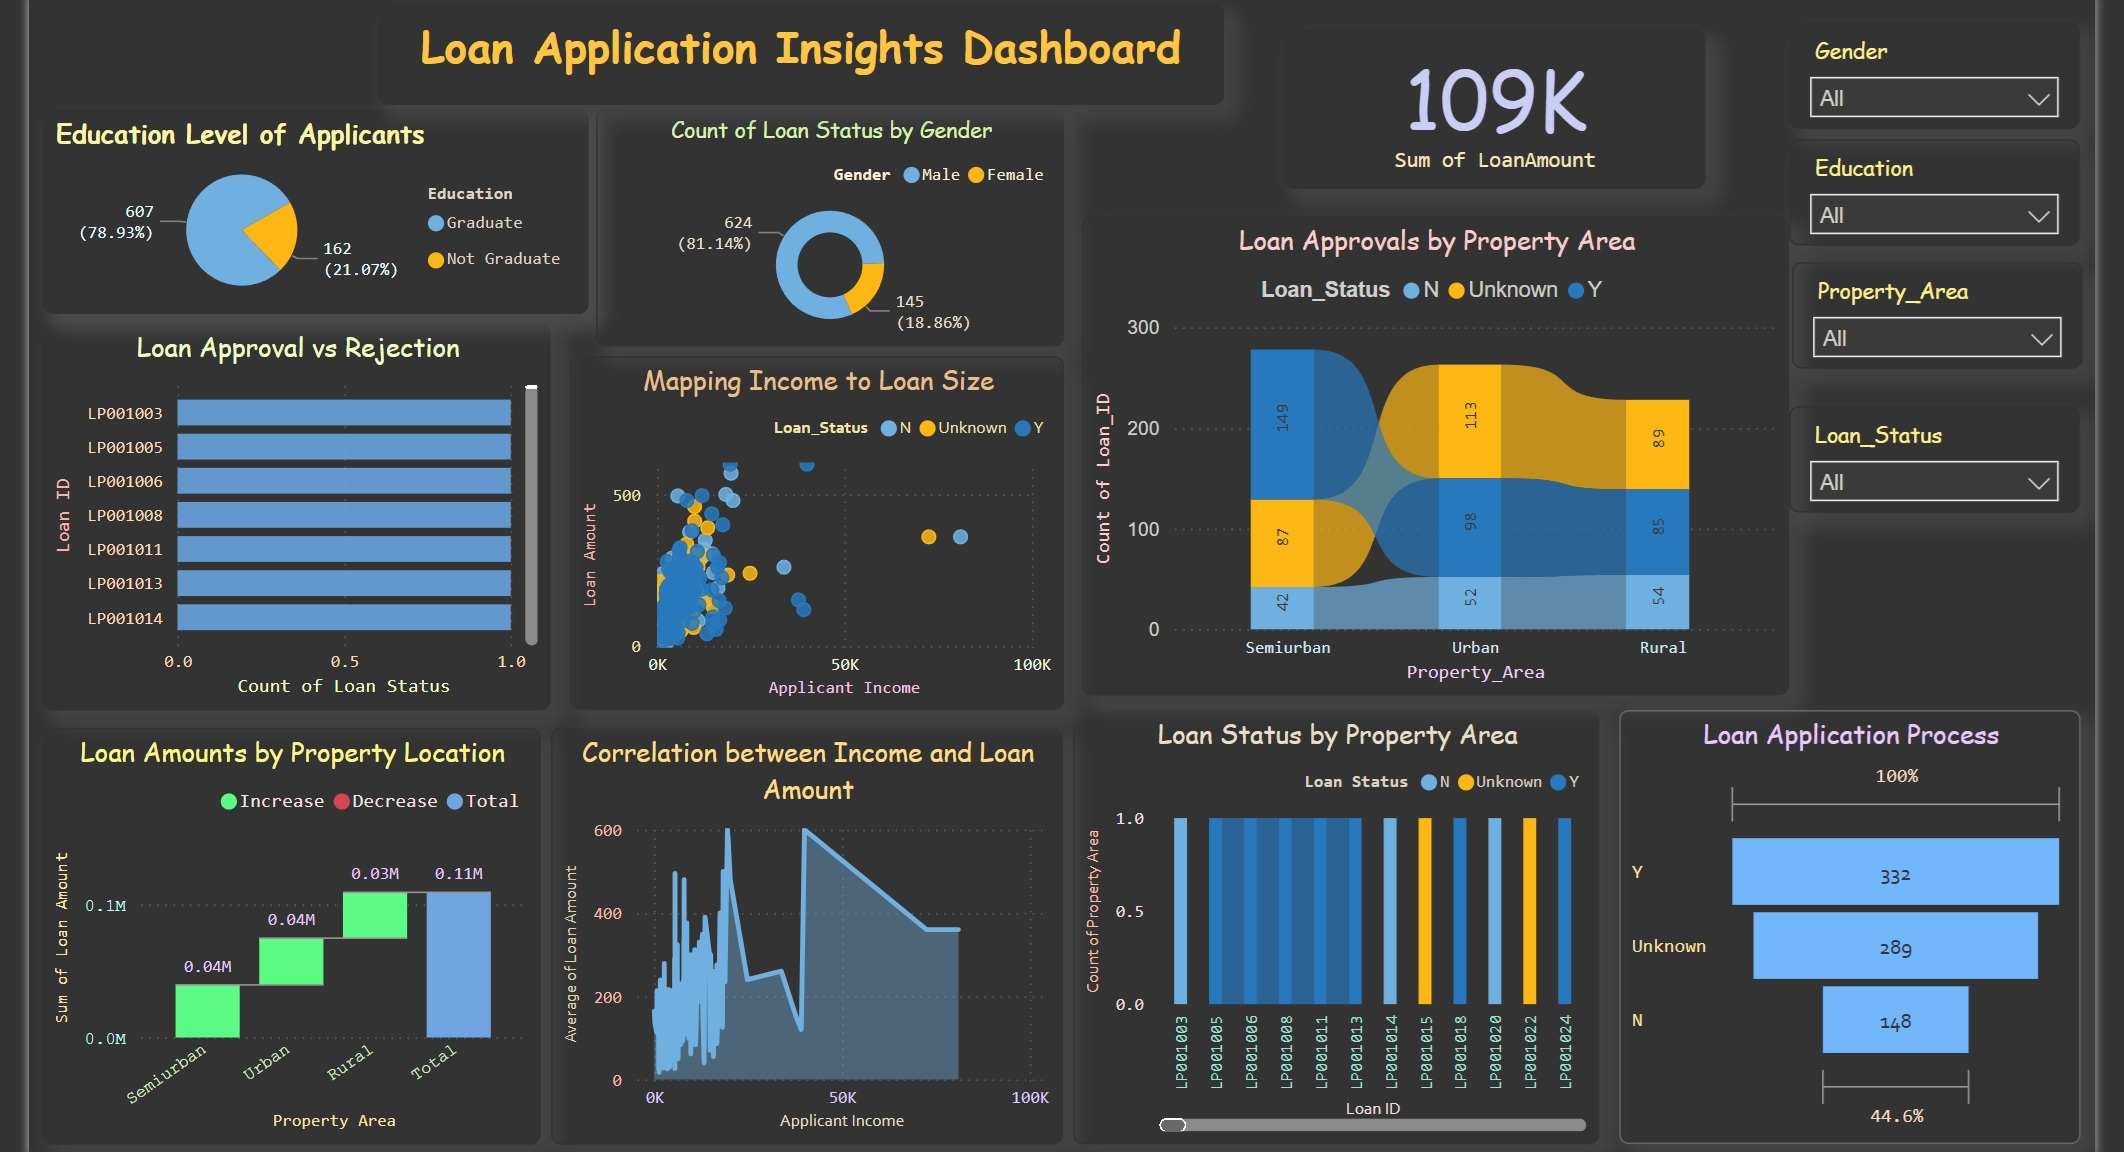

The dashboard page shown, as its layout file describes it:
{"tool":"powerbi","page":{"name":"Finance Loan Approval dashboard","canvas":[1280,720],"ordinal":0},"visuals":[{"type":"slicer","fields":{"Values":["Combined_Loan_Data.Gender"]},"box":[1090.5,17.3,180.3,65.7],"z":0},{"type":"barChart","title":"Loan Approval vs Rejection","fields":{"Y":["CountNonNull(Combined_Loan_Data.Loan_Status)"],"Category":["Combined_Loan_Data.Loan_ID"]},"box":[8.3,203.9,315.5,239.7],"z":4000},{"type":"waterfallChart","title":"Loan Amounts by Property Location","fields":{"Y":["Sum(Combined_Loan_Data.LoanAmount)"],"Category":["Combined_Loan_Data.Property_Area"]},"box":[8.1,454.8,308.6,257.8],"z":5000},{"type":"card","fields":{"Values":["Sum(Combined_Loan_Data.LoanAmount)"]},"box":[777.6,21.7,261.5,99.1],"z":6000},{"type":"areaChart","title":"Correlation between Income and Loan Amount","fields":{"Category":["Combined_Loan_Data.ApplicantIncome"],"Y":["Avg(Combined_Loan_Data.LoanAmount)"]},"box":[323.4,454.8,316.6,257.8],"z":7000},{"type":"ribbonChart","title":"Loan Status by Property Area","fields":{"Category":["Combined_Loan_Data.Loan_ID"],"Y":["Count(Combined_Loan_Data.Property_Area)"],"Series":["Combined_Loan_Data.Loan_Status"]},"box":[646.9,443.6,325.9,268.9],"z":8000},{"type":"pieChart","title":"Education Level of Applicants","fields":{"Category":["Combined_Loan_Data.Education"],"Y":["CountNonNull(Combined_Loan_Data.Loan_ID)"]},"box":[8.7,71.3,338.3,127],"z":9000},{"type":"donutChart","title":"Count of Loan Status by Gender","fields":{"Category":["Combined_Loan_Data.Gender"],"Y":["CountNonNull(Combined_Loan_Data.Loan_Status)"]},"box":[351.3,71.3,290,146.9],"z":10000},{"type":"funnel","title":"Loan Application Process","fields":{"Category":["Combined_Loan_Data.Loan_Status"],"Y":["CountNonNull(Combined_Loan_Data.Loan_ID)"]},"box":[985.2,443.6,285.6,268.9],"z":11000},{"type":"scatterChart","title":"Mapping Income to Loan Size","fields":{"X":["Combined_Loan_Data.ApplicantIncome"],"Y":["Combined_Loan_Data.LoanAmount"],"Series":["Combined_Loan_Data.Loan_Status"]},"box":[335.2,224.3,306.1,219.3],"z":12000},{"type":"textbox","box":[216.2,5.6,524.2,62.6],"z":13000},{"type":"ribbonChart","title":"Loan Approvals by Property Area","fields":{"Category":["Combined_Loan_Data.Property_Area"],"Y":["CountNonNull(Combined_Loan_Data.Loan_ID)"],"Series":["Combined_Loan_Data.Loan_Status"]},"box":[652.5,137.6,438.1,297.4],"z":13001},{"type":"slicer","fields":{"Values":["Combined_Loan_Data.Education"]},"box":[1090.5,89.8,180.3,65.7],"z":13002},{"type":"slicer","fields":{"Values":["Combined_Loan_Data.Property_Area"]},"box":[1092.4,166.1,180.3,65.7],"z":13003},{"type":"slicer","fields":{"Values":["Combined_Loan_Data.Loan_Status"]},"box":[1090.5,255.3,180.3,65.7],"z":13004}]}

Visuals, with their boxes on the page's 1280x720 design canvas (x1, y1, x2, y2). These are canvas units, not pixel positions in the 2124x1152 screenshot, which may show the page scaled, cropped or inside an application window:
slicer - Combined_Loan_Data.Gender: (1090, 17, 1271, 83)
"Loan Approval vs Rejection" barChart: (8, 204, 324, 444)
"Loan Amounts by Property Location" waterfallChart: (8, 455, 317, 713)
card - Sum(Combined_Loan_Data.LoanAmount): (778, 22, 1039, 121)
"Correlation between Income and Loan Amount" areaChart: (323, 455, 640, 713)
"Loan Status by Property Area" ribbonChart: (647, 444, 973, 712)
"Education Level of Applicants" pieChart: (9, 71, 347, 198)
"Count of Loan Status by Gender" donutChart: (351, 71, 641, 218)
"Loan Application Process" funnel: (985, 444, 1271, 712)
"Mapping Income to Loan Size" scatterChart: (335, 224, 641, 444)
textbox: (216, 6, 740, 68)
"Loan Approvals by Property Area" ribbonChart: (652, 138, 1091, 435)
slicer - Combined_Loan_Data.Education: (1090, 90, 1271, 156)
slicer - Combined_Loan_Data.Property_Area: (1092, 166, 1273, 232)
slicer - Combined_Loan_Data.Loan_Status: (1090, 255, 1271, 321)
